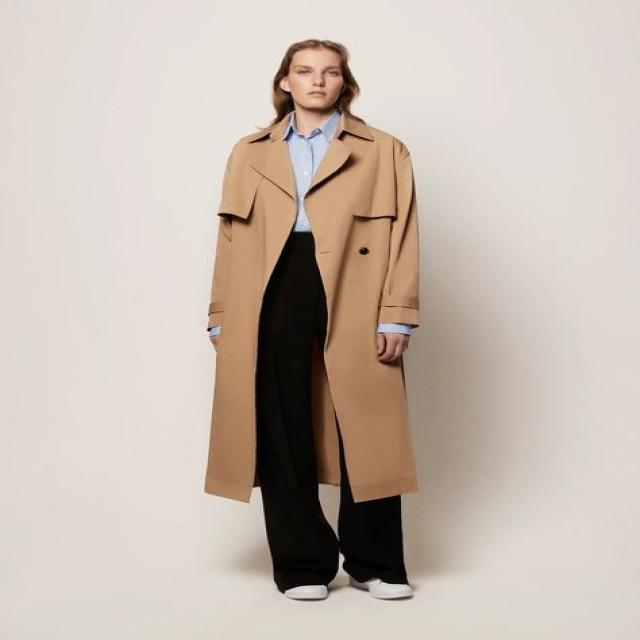coat: (202, 108, 425, 505)
short sleeve shirt: (283, 112, 344, 237)
trousers: (254, 230, 412, 591)
